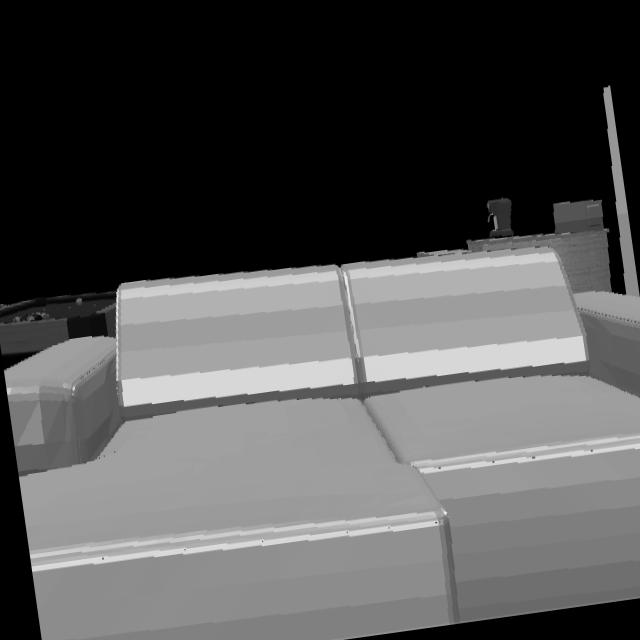sink: (4, 249, 640, 640)
